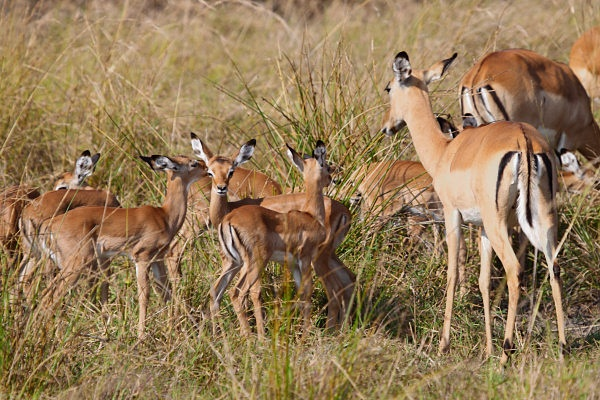impala: (375, 46, 581, 366), (188, 127, 363, 328), (47, 150, 210, 338), (208, 143, 334, 353)
